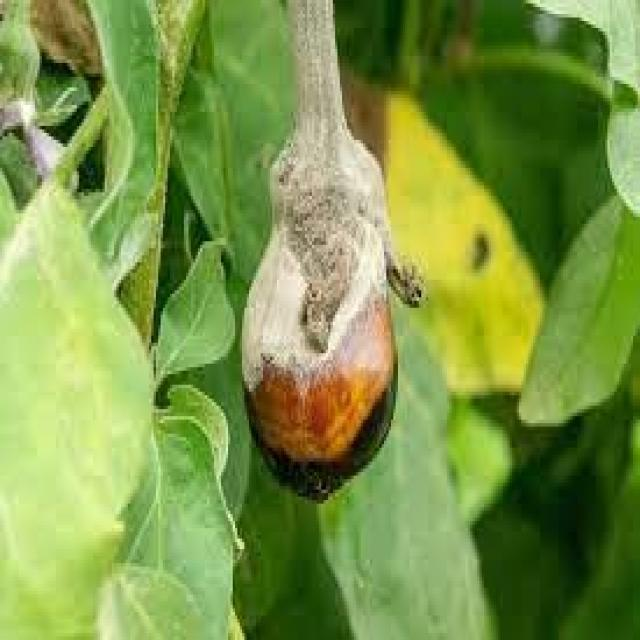eggplant: (241, 1, 426, 506)
